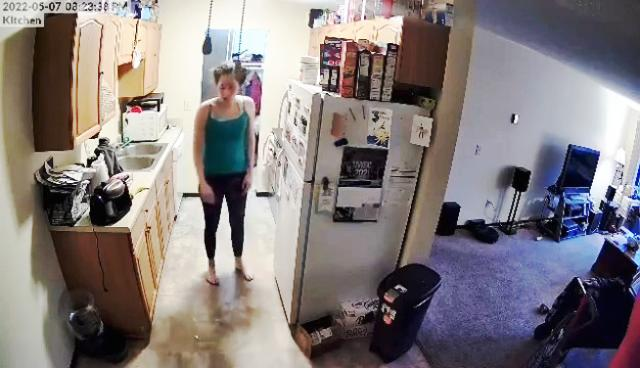berdiri: (192, 64, 262, 294)
